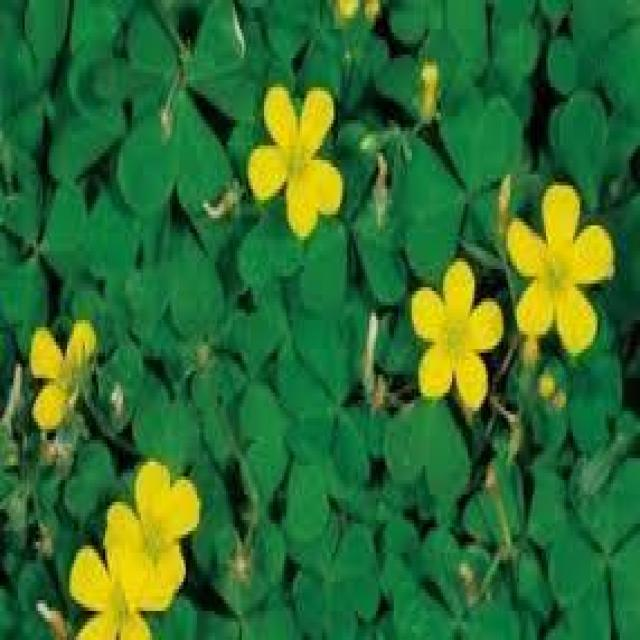organic waste: (511, 191, 619, 365), (245, 78, 355, 238), (410, 262, 501, 418), (113, 456, 205, 609), (58, 522, 164, 638), (26, 322, 109, 431)
